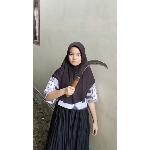Celurit: (62, 58, 112, 100)
